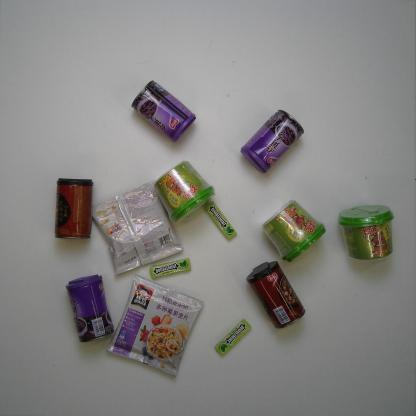Canned Food: (245, 258, 308, 330), (130, 78, 198, 142), (240, 107, 304, 175), (66, 273, 114, 343), (54, 176, 94, 242)
Gum: (202, 199, 238, 242), (213, 319, 253, 355), (149, 258, 192, 280)
Instant Drink: (105, 274, 205, 378), (90, 178, 183, 275), (260, 198, 327, 262), (154, 158, 217, 226), (337, 202, 398, 262)
